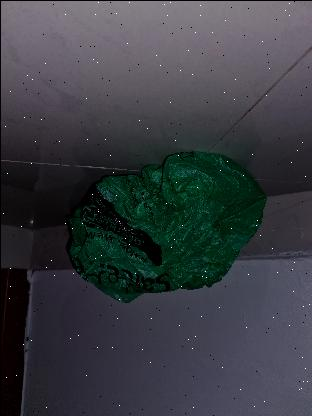Others: (64, 150, 265, 304)
